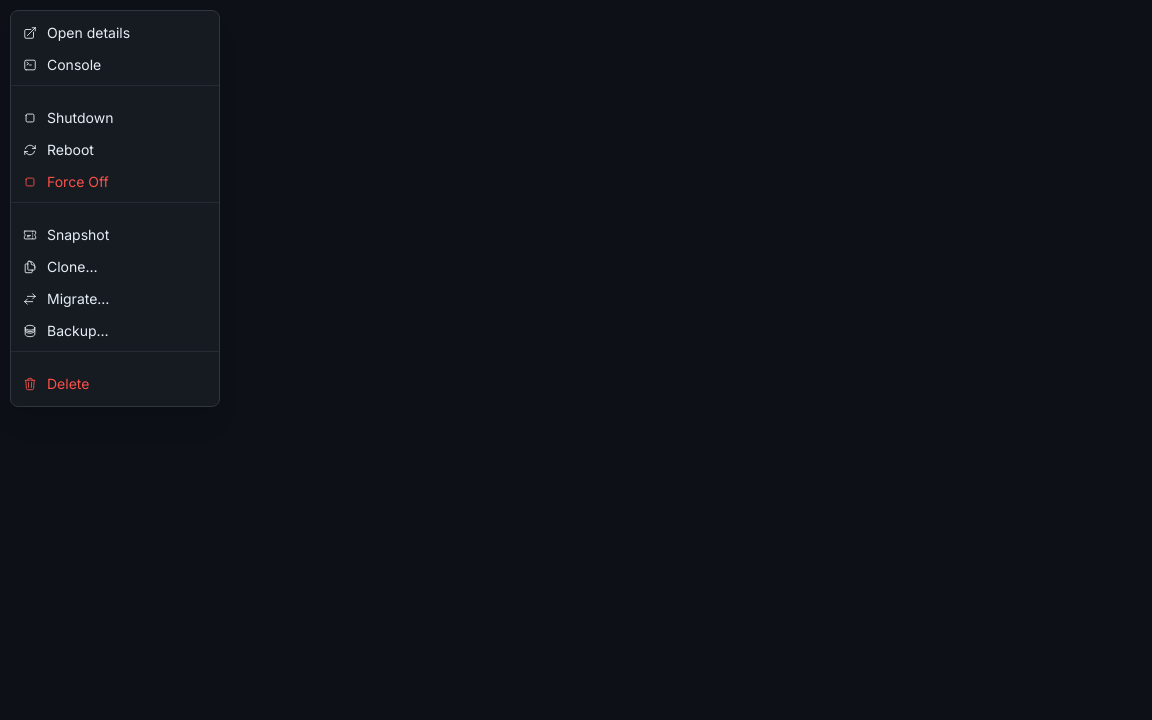
ResourceContextMenu dialogs (StrictMode=true) › VM force off confirm opens its dialog
Step 1. Click the menu item "Force Off" → (115, 182), box [11, 166, 219, 198]
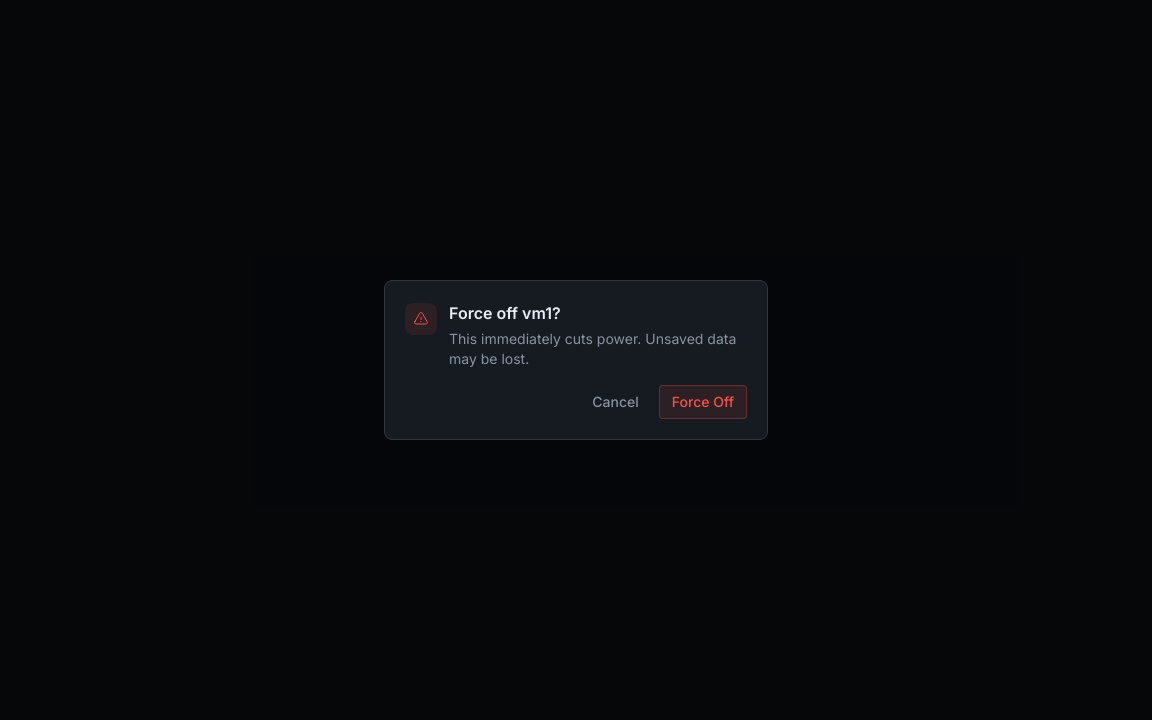
Expected: the text "This immediately cuts power. Unsaved data may be lost." is shown, [449, 329, 747, 369]
